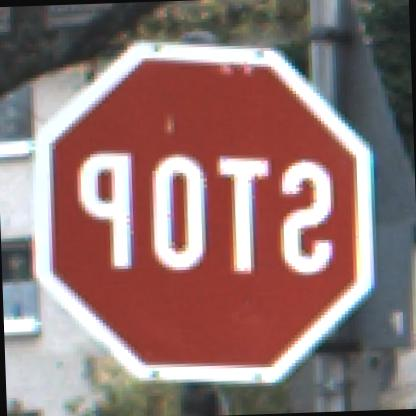stop: (14, 26, 390, 392)
